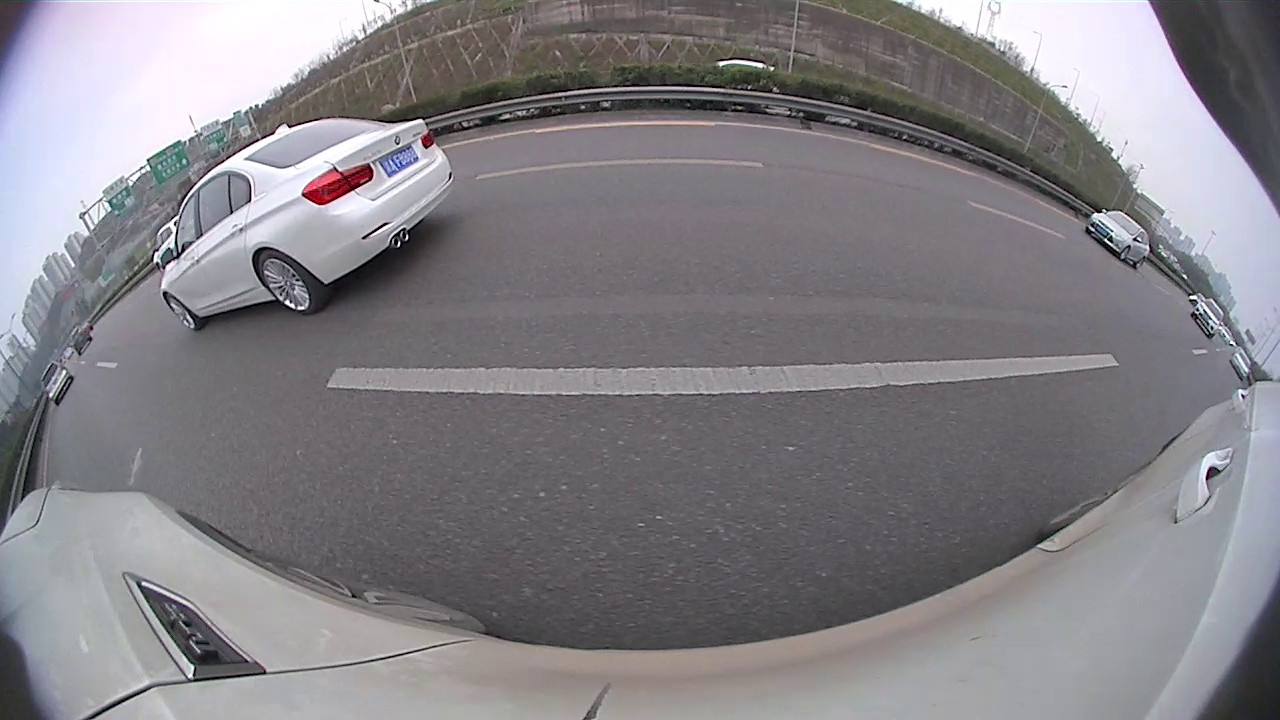car: (576, 114, 775, 251), (306, 147, 514, 265), (776, 146, 903, 228), (917, 192, 1026, 246), (549, 161, 581, 191)
front: (772, 172, 783, 208), (500, 190, 514, 218), (920, 206, 934, 223)
person: (1164, 273, 1174, 322)
rear: (432, 202, 459, 247), (814, 185, 832, 217), (973, 221, 988, 240)
